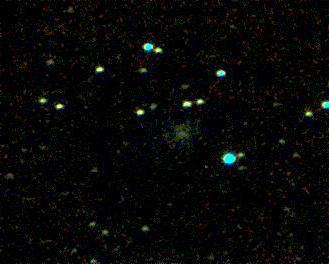star: (57, 0, 87, 27)
